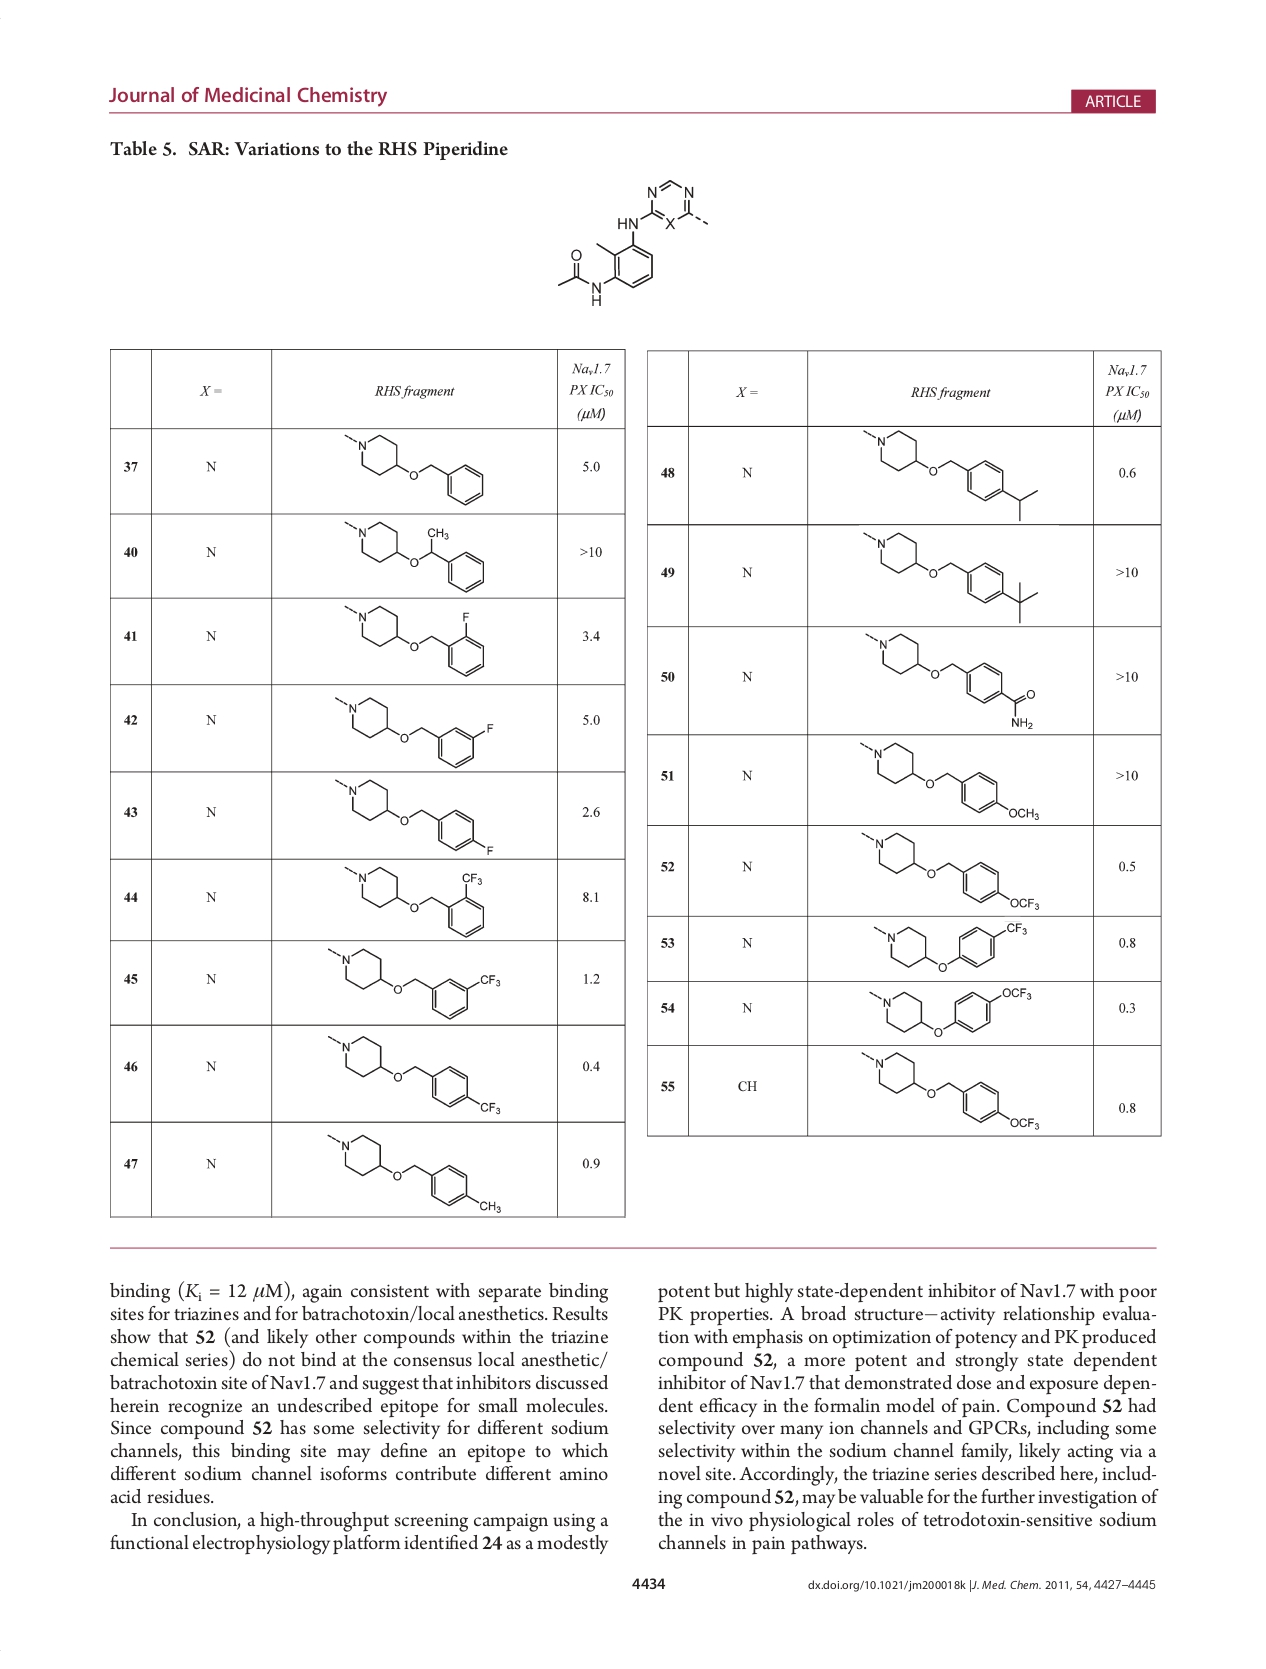exist_molecular: (553, 178, 711, 309), (856, 630, 1041, 730), (856, 529, 1045, 622), (860, 428, 1041, 521), (316, 1031, 504, 1114), (854, 1048, 1041, 1130), (856, 738, 1043, 821), (852, 830, 1041, 911), (320, 1130, 501, 1213), (324, 946, 505, 1021), (332, 777, 497, 856), (328, 694, 493, 770), (335, 862, 489, 940), (340, 517, 489, 594), (340, 430, 488, 507), (340, 602, 489, 678), (863, 985, 1035, 1039), (868, 920, 1032, 973)
